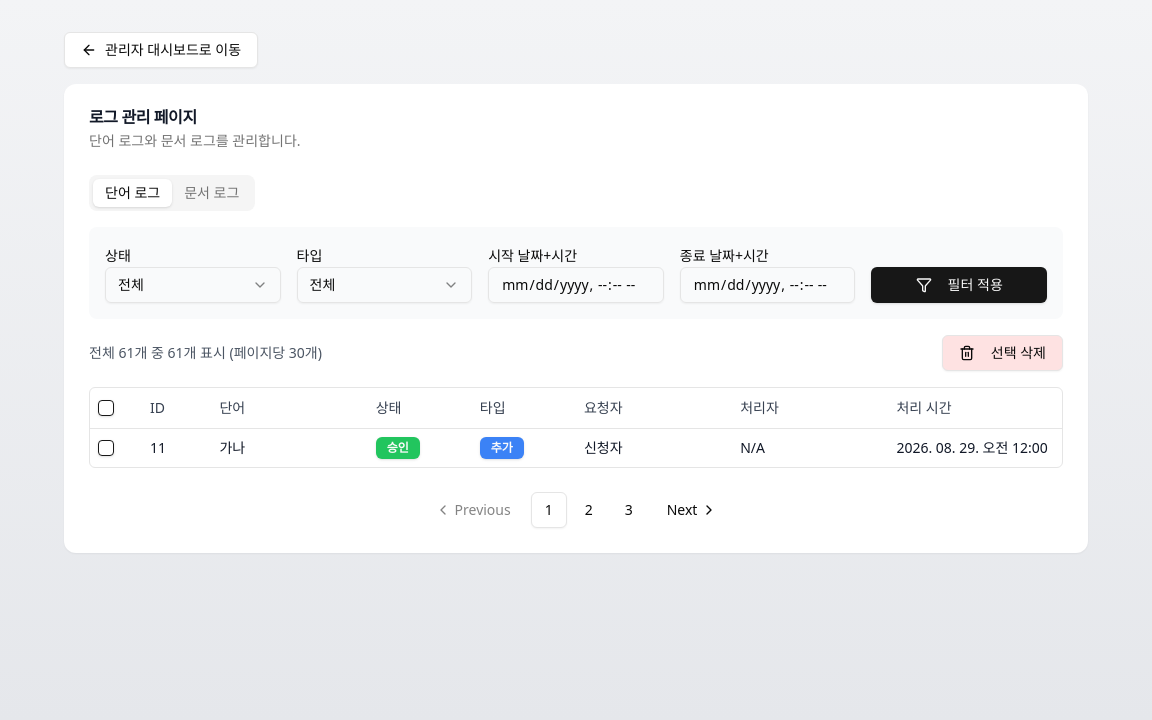
Test: AdminLogsHome › converts non-empty date inputs to ISO and requests 150 rows from page one
Click the link "2".
click(589, 509)  # box left=585, top=500, right=593, bottom=518
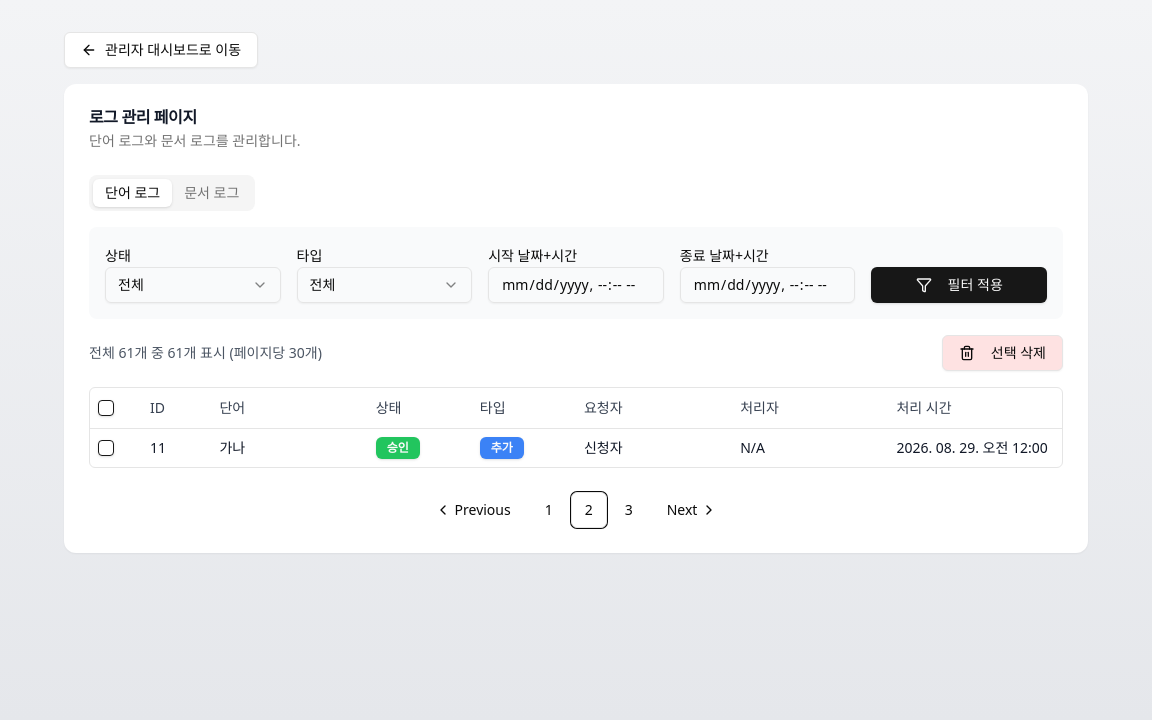
Type "2026-08-29T12:34" into the field labelled "시작 날짜+시간".
click(576, 285); type("2026-08-29T12:34")  # box left=488, top=267, right=664, bottom=303
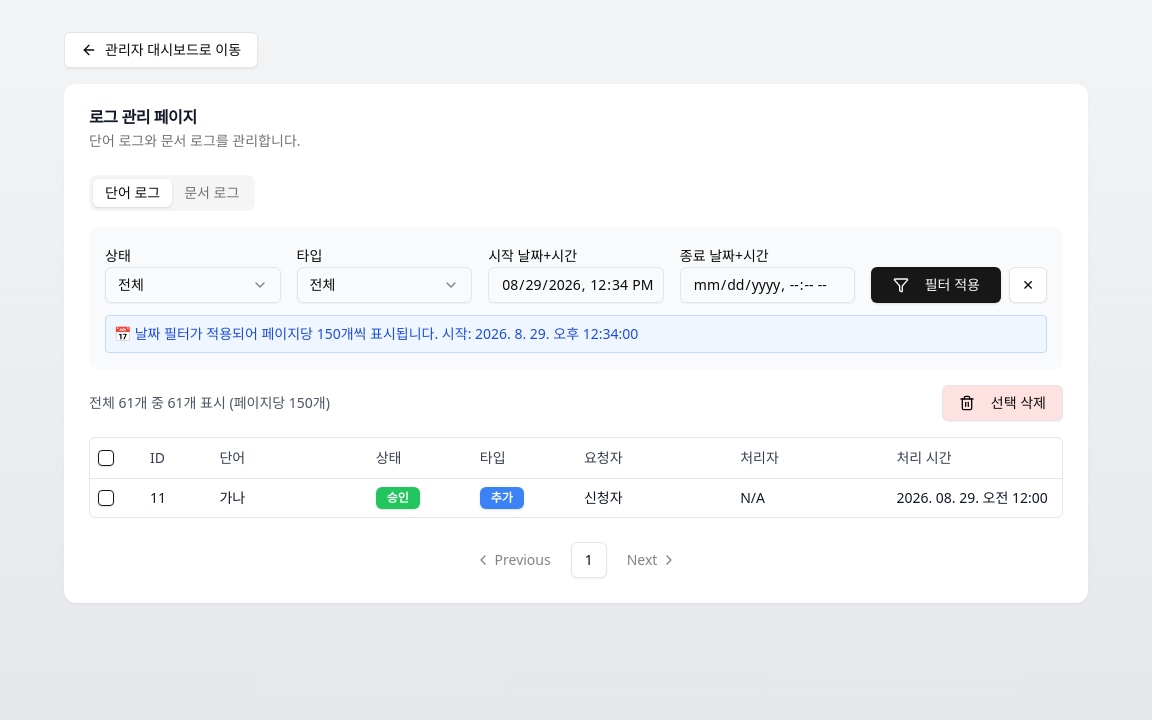
Result: the text "날짜 필터가 적용되어 페이지당 150개씩 표시됩니다" is shown at left=114, top=324, right=638, bottom=343
